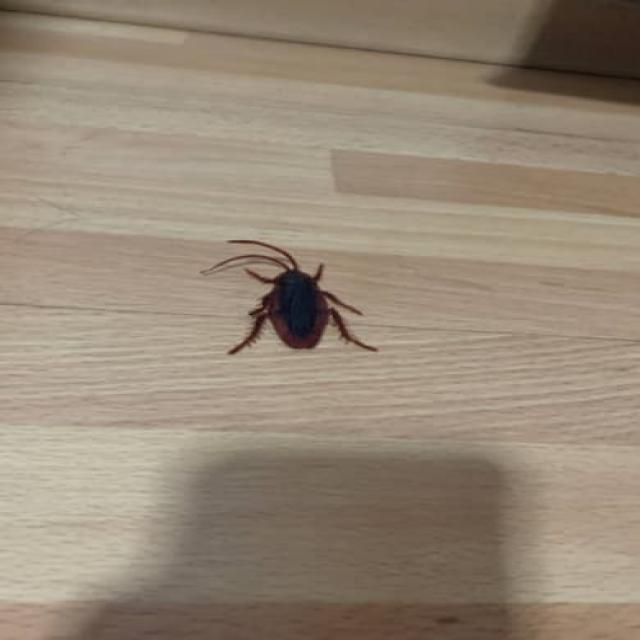Cockroach: (202, 229, 386, 361)
